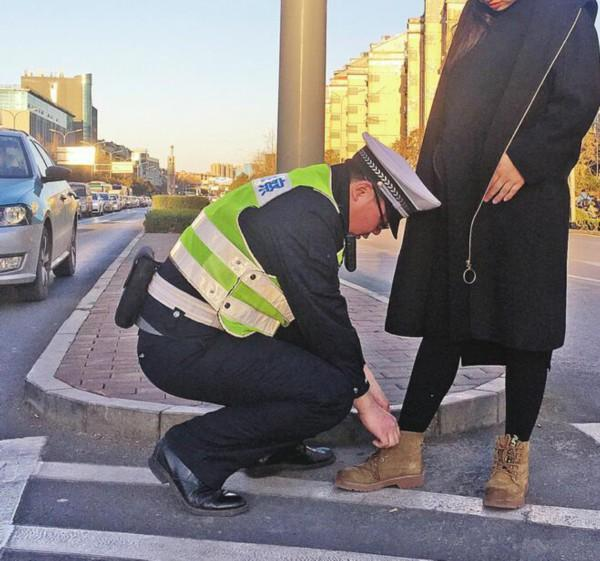bending: (135, 140, 404, 515)
up: (402, 1, 600, 532)
